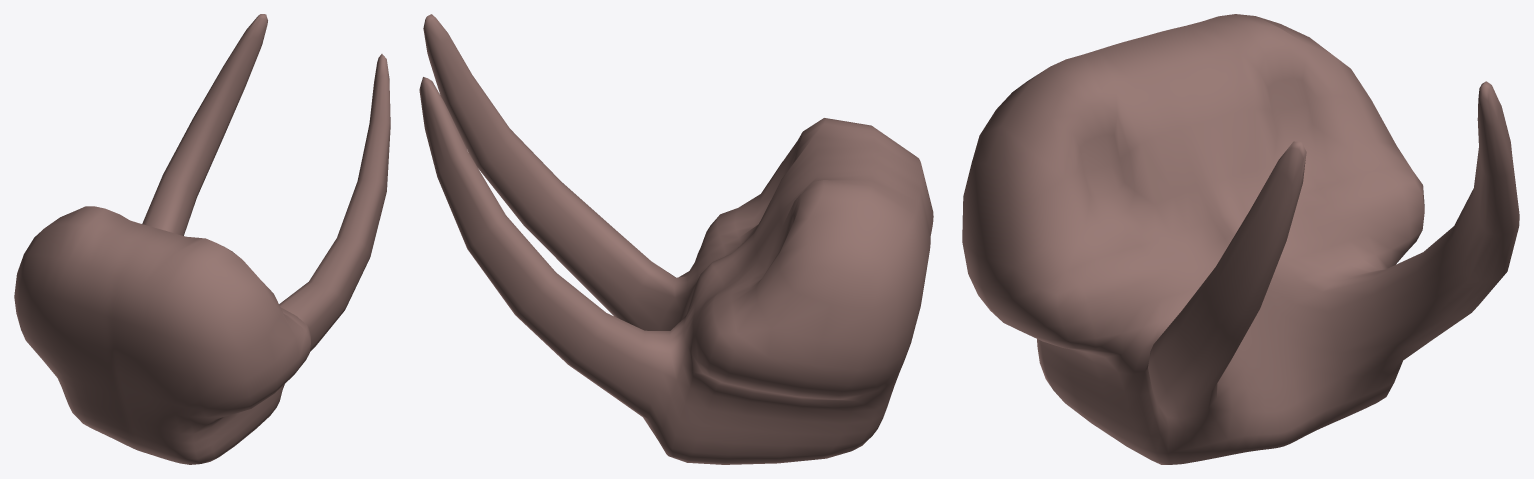
Rendered from craneo de mamut.fbx.
The picture shows the model from 3 angles, left to right: view 1: azimuth 30°, elevation 25°; view 2: azimuth 150°, elevation 25°; view 3: azimuth 270°, elevation 25°; orthographic projection. The views are drawn at different scales.
Parts seen in each view (by area): view 1: craneo mamut; view 2: craneo mamut; view 3: craneo mamut.
Part boxes in pixels (<box>): craneo mamut: <box>14,14,390,464</box>; craneo mamut: <box>419,14,933,464</box>; craneo mamut: <box>962,14,1519,464</box>.
Size of the model in its own units: 2222 by 1761 by 1906.
